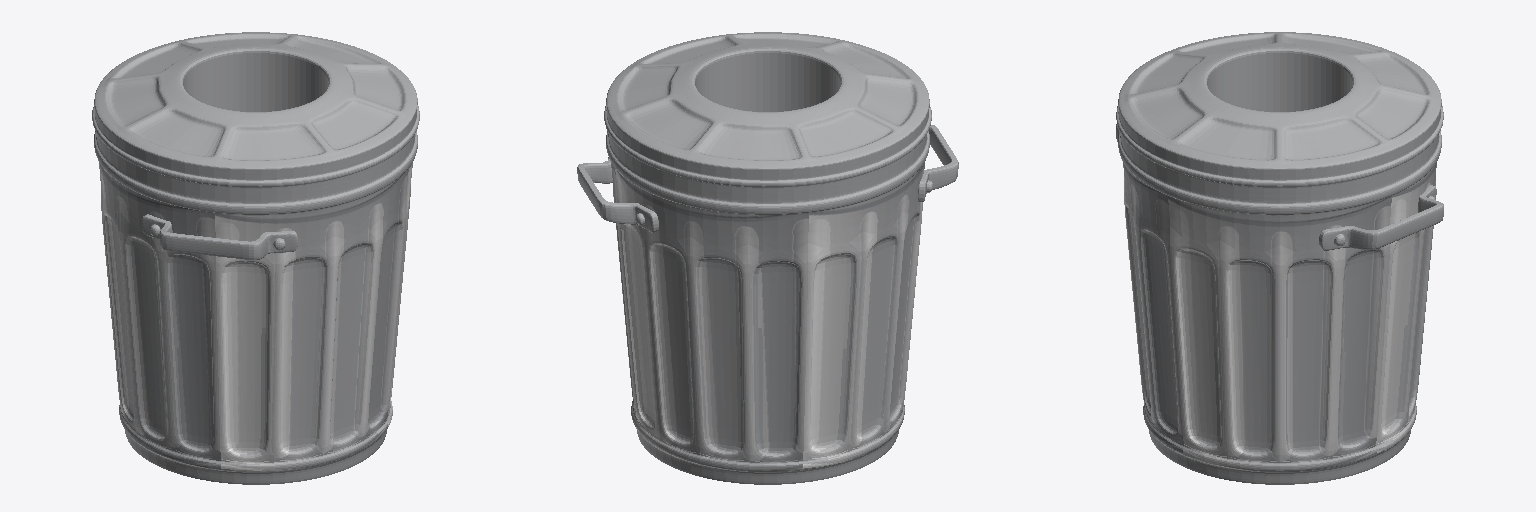
The picture shows the model from 3 angles: view 1: azimuth 30°, elevation 25°; view 2: azimuth 150°, elevation 25°; view 3: azimuth 270°, elevation 25°; orthographic projection.
Visible parts, largest first — view 1: bote; view 2: bote; view 3: bote.
Part boxes in pixels (x1,y1,x2,y2): bote: (92, 32, 419, 484); bote: (577, 32, 958, 484); bote: (1116, 32, 1443, 484).
Bounding box in the file's own units: 1.63 × 1.92 × 1.63.
1 materials, 1 textured.